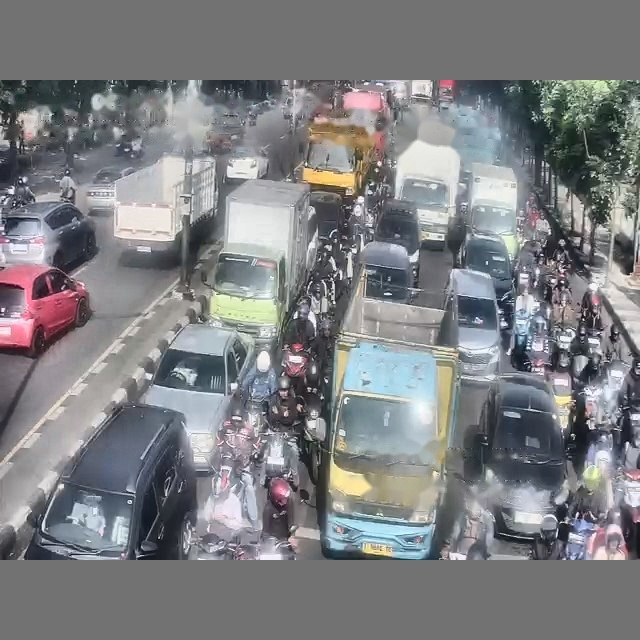Mobil: (25, 404, 196, 559), (142, 324, 254, 473), (475, 373, 567, 538), (0, 265, 90, 357), (441, 269, 500, 381), (0, 201, 96, 269), (459, 233, 514, 329), (374, 199, 420, 286), (86, 167, 135, 214), (310, 191, 342, 241), (225, 146, 268, 181), (219, 112, 244, 128)
Motor: (190, 533, 295, 560), (618, 469, 639, 553), (282, 343, 311, 394)
Truk: (307, 270, 460, 559), (203, 179, 312, 348), (113, 155, 218, 257), (395, 140, 459, 247), (301, 114, 375, 201), (468, 163, 518, 258), (410, 80, 433, 102)
